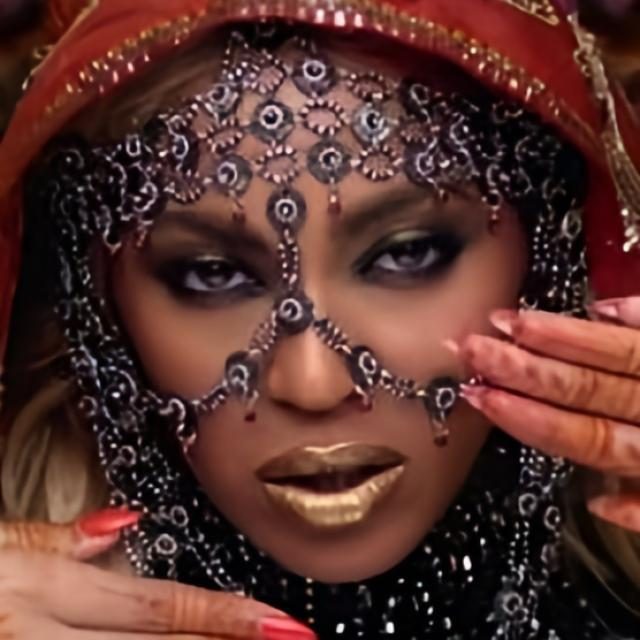anger: (113, 39, 544, 588)
